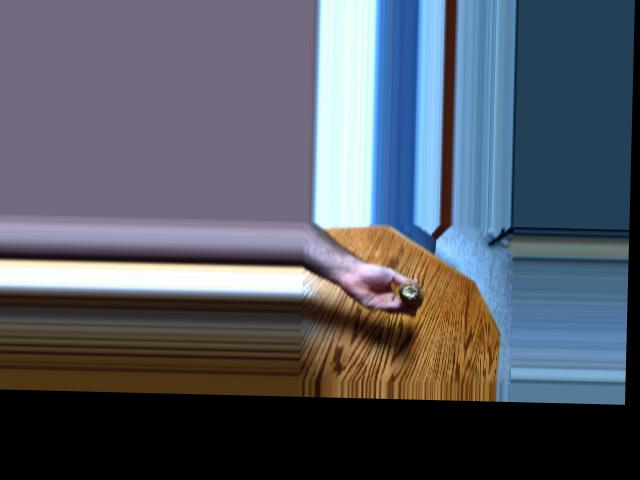sweet_potato: (399, 278, 428, 302)
